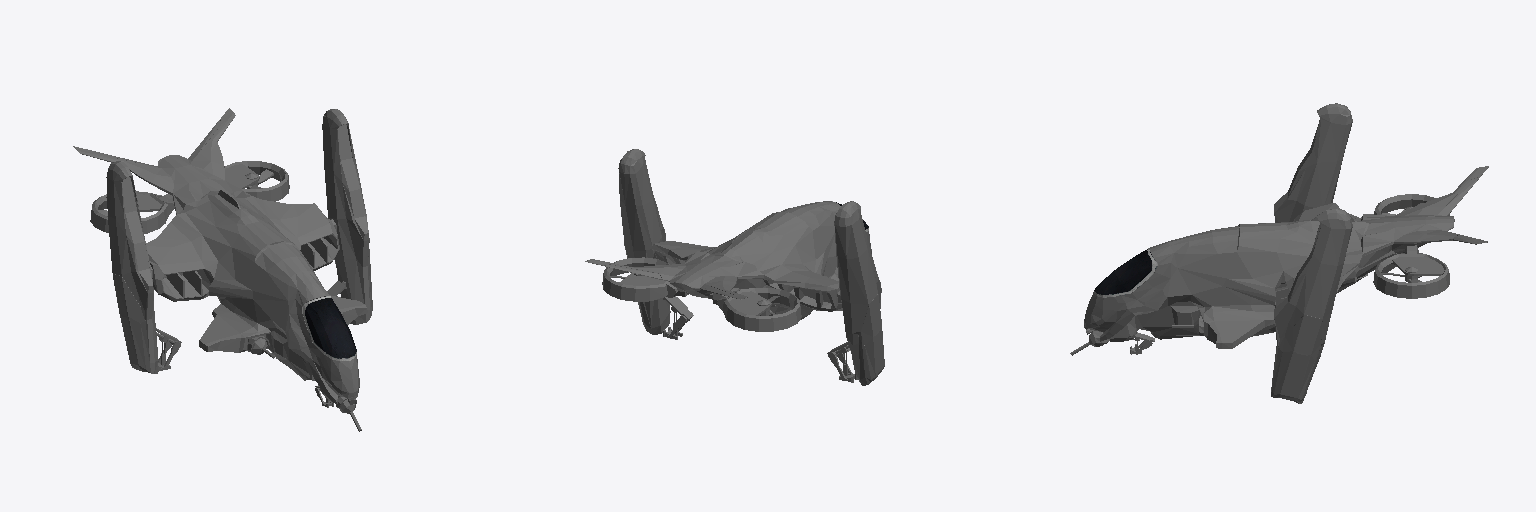
3 views of the same model, side by side, from view 1: azimuth 30°, elevation 25°; view 2: azimuth 150°, elevation 25°; view 3: azimuth 270°, elevation 25° (orthographic).
Visible parts, largest first — view 1: 32d76898_obj, 32e0e538_obj; view 2: 32d76898_obj; view 3: 32d76898_obj, 32e0e538_obj.
Boxes of the visible parts, <box> form: 32d76898_obj: <box>73,108,372,431</box>; 32e0e538_obj: <box>303,296,356,360</box>; 32d76898_obj: <box>585,149,884,385</box>; 32d76898_obj: <box>1070,103,1488,403</box>; 32e0e538_obj: <box>1093,248,1157,297</box>.
Size of the model in its own units: 21.47 by 16.71 by 31.86.
Materials: 2 (1 with a texture image).